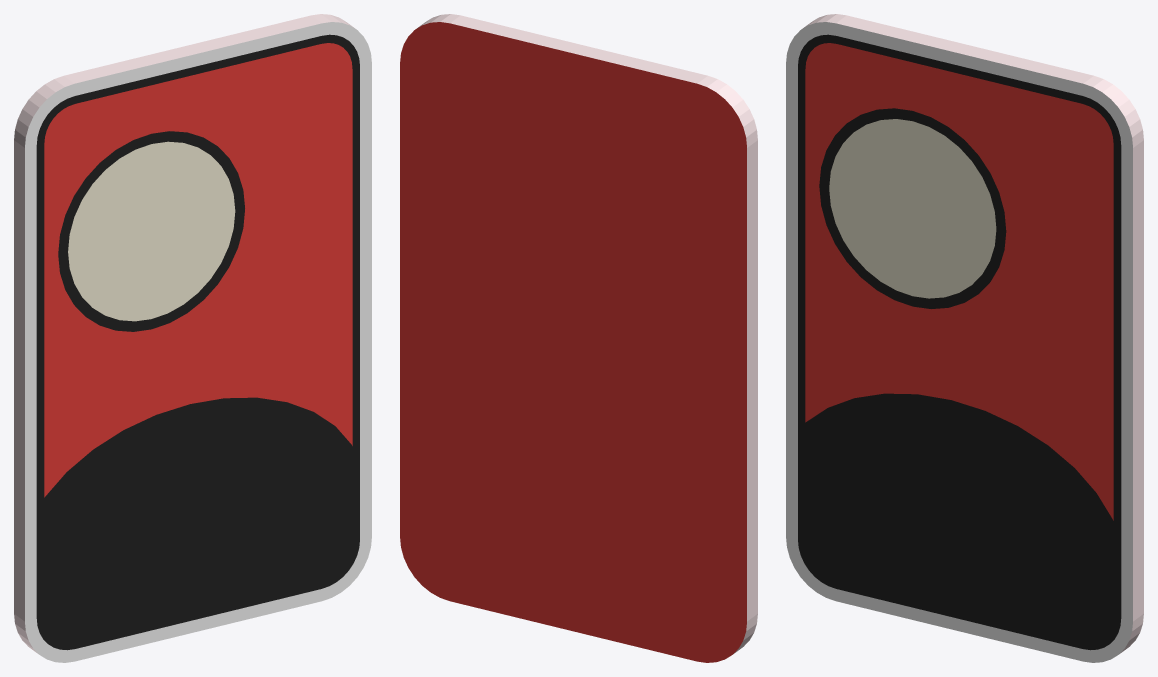
File: flower_playing_cards.glb
3 renders of one model, left to right at view 1: azimuth 30°, elevation 25°; view 2: azimuth 150°, elevation 25°; view 3: azimuth 330°, elevation 25°, orthographic.
Parts seen in each view (by area): view 1: Plane.319; view 2: Plane.319; view 3: Plane.319.
Boxes of the visible parts, x1,y1,x2,y2 form: Plane.319: [14, 14, 371, 662]; Plane.319: [400, 14, 757, 662]; Plane.319: [786, 14, 1143, 662].
Bounding box in the file's own units: 1.48 × 2.36 × 0.0805.
1 material, 1 textured.
